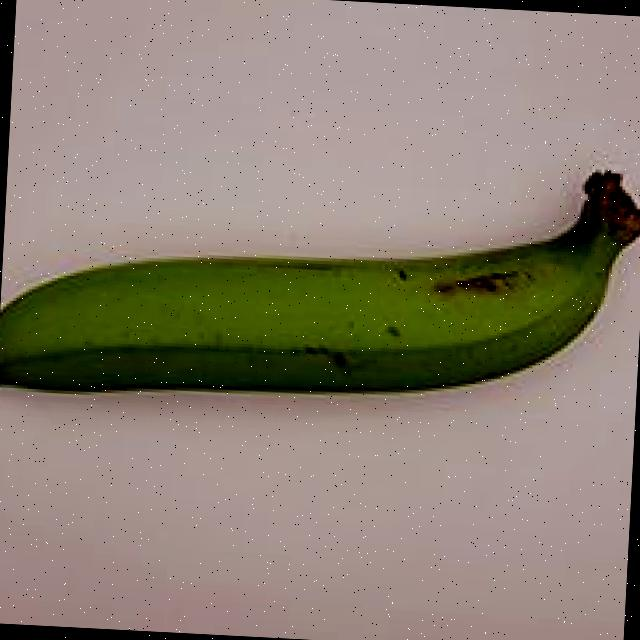Raw: (0, 123, 640, 451)
